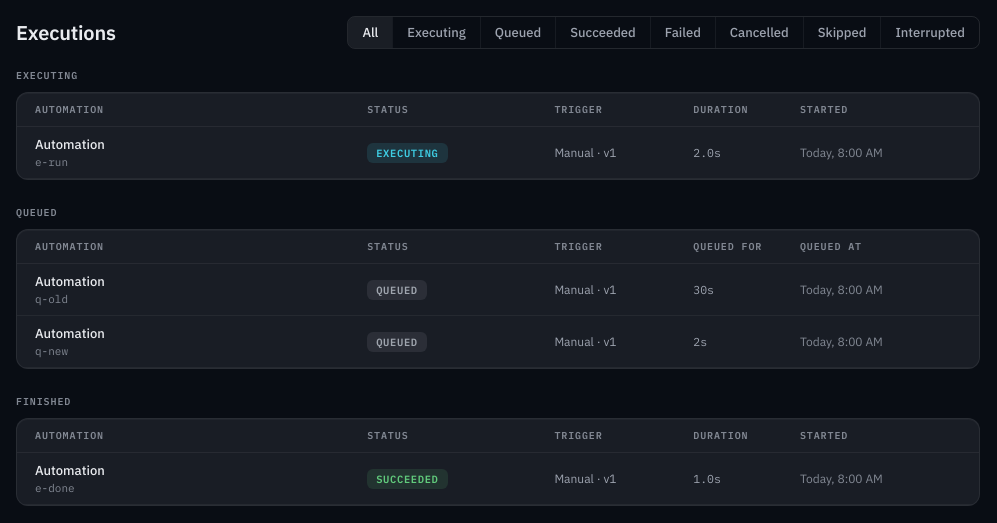
it: executions list live segments (§7) › shows only executing rows under Executing and never fetches
Click the button "Executing": (436, 32) [392,17,480,48]
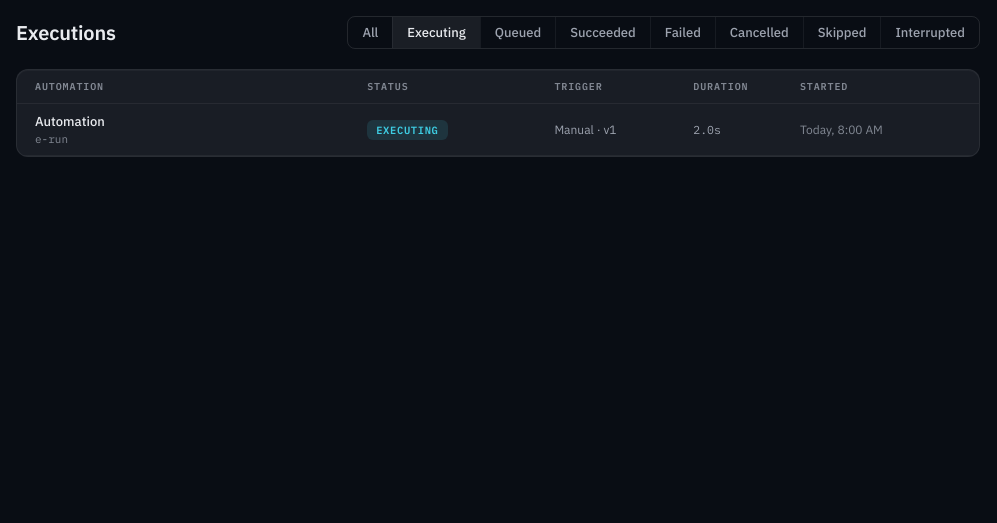
Check: the number of buttons with test id "execution-row" is 1, box [17,104,979,156]
Check: the button "q-old" is gone
Check: the button "e-done" is gone
